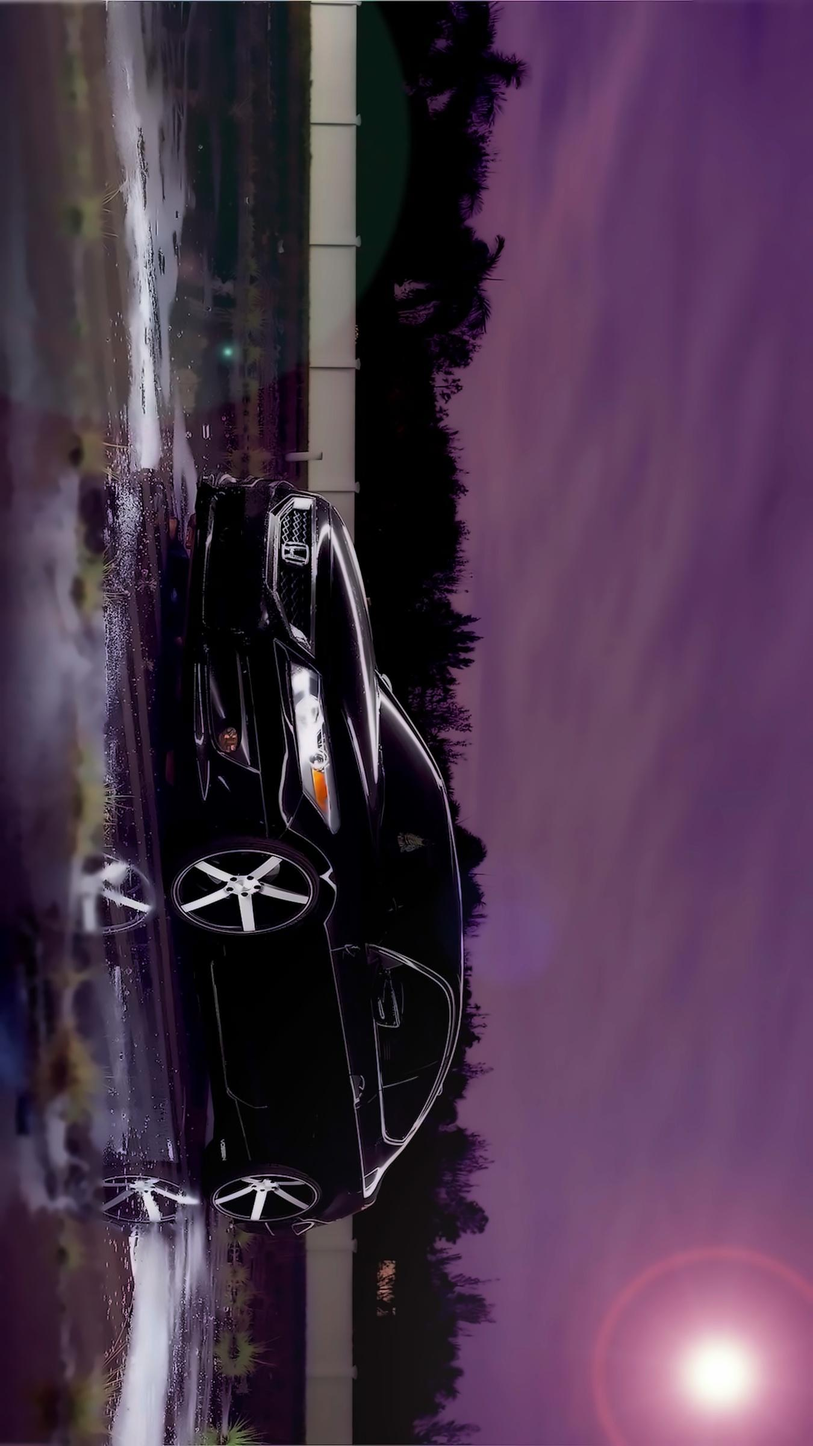Car hood: (310, 489, 381, 906)
Fender - -F-L-: (201, 796, 382, 952)
Fender - -R-L-: (229, 1157, 381, 1225)
Front bumper: (172, 459, 295, 856)
Headlight - -L-: (281, 649, 348, 842)
Passenger-s door - -F-L-: (205, 940, 467, 1121)
Rear bumper: (225, 1210, 311, 1246)
Side bumper - -L-: (187, 920, 257, 1179)
Side mirror - -L-: (365, 961, 411, 1034)
Side mirror - -R-: (371, 662, 403, 696)
